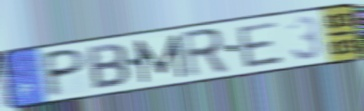3: (285, 14, 323, 63)
B: (86, 42, 132, 92)
E: (235, 20, 286, 70)
M: (132, 33, 187, 86)
P: (43, 46, 88, 100)
R: (178, 26, 231, 81)
